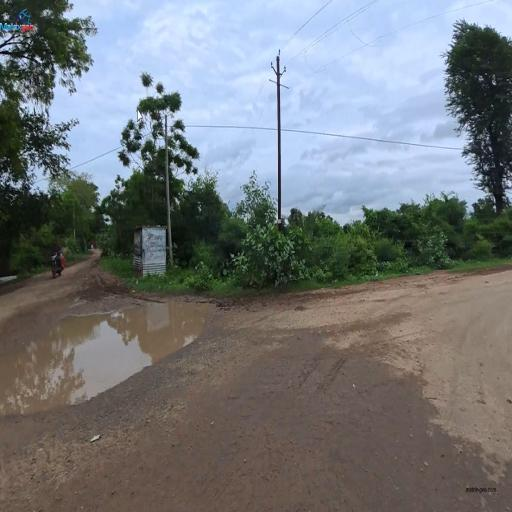pothole: (31, 297, 98, 441)
